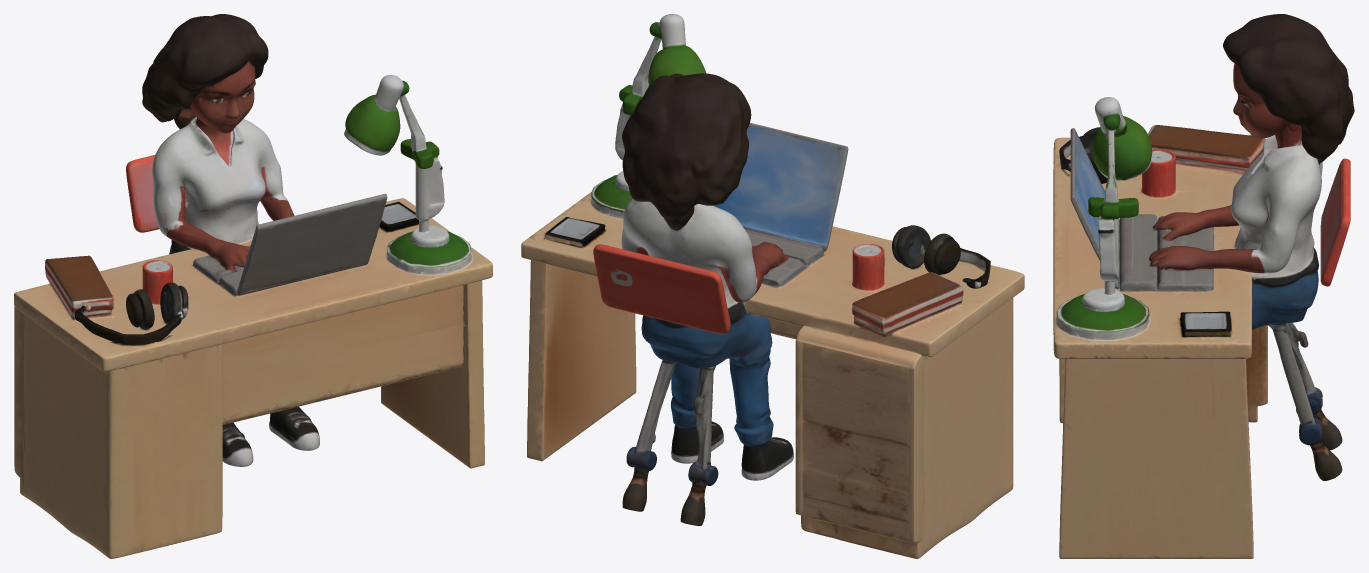
The model's file is valentina-empleada.glb.
3 renders of one model, left to right at view 1: azimuth 30°, elevation 25°; view 2: azimuth 150°, elevation 25°; view 3: azimuth 270°, elevation 25°, orthographic. The views are drawn at different scales.
Visible parts, largest first — view 1: tripo_node_994be755-8d18-41f6-9fc8-8542e7e203cc; view 2: tripo_node_994be755-8d18-41f6-9fc8-8542e7e203cc; view 3: tripo_node_994be755-8d18-41f6-9fc8-8542e7e203cc.
Part boxes in pixels (x1=…): tripo_node_994be755-8d18-41f6-9fc8-8542e7e203cc: x1=14, y1=14, x2=492, y2=558; tripo_node_994be755-8d18-41f6-9fc8-8542e7e203cc: x1=521, y1=14, x2=1024, y2=558; tripo_node_994be755-8d18-41f6-9fc8-8542e7e203cc: x1=1053, y1=14, x2=1354, y2=558.
Size of the model in its own units: 0.9723 by 0.9999 by 0.5983.
1 material, 1 textured.
